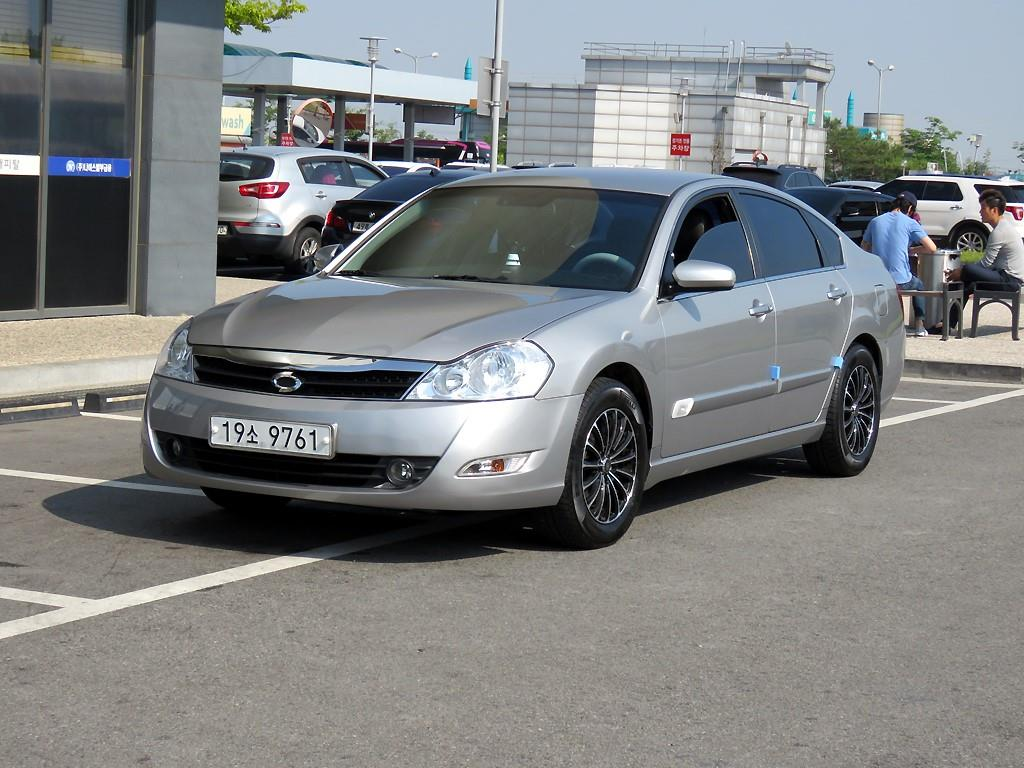plate: (210, 416, 331, 456)
